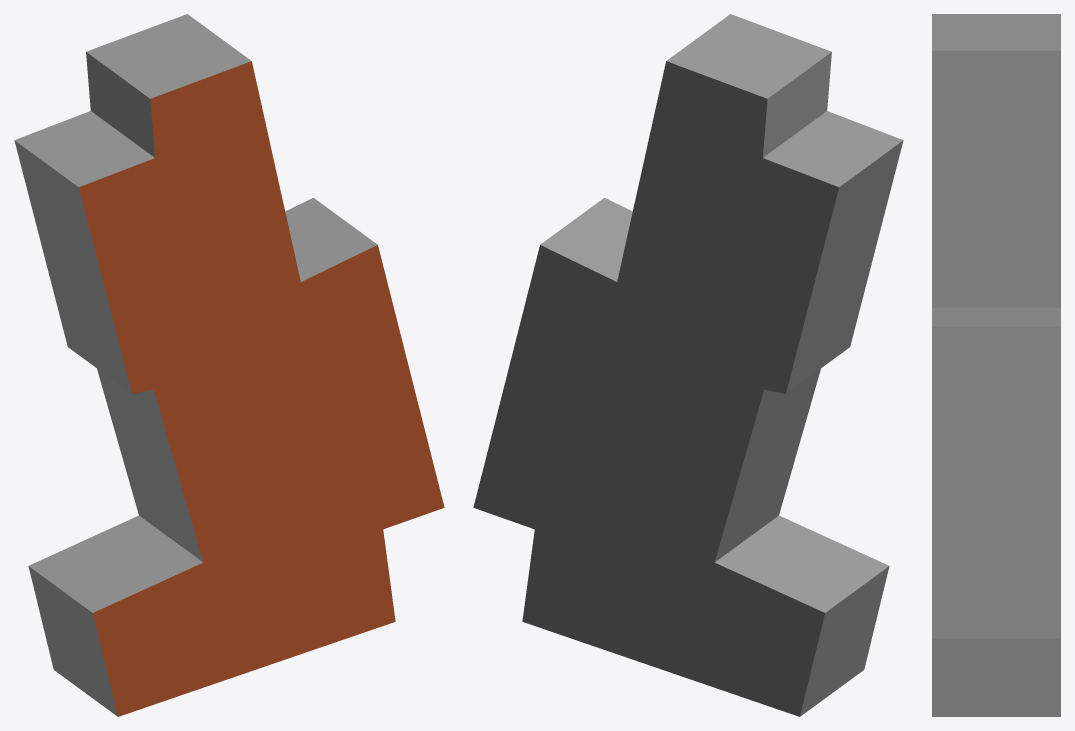
File: construction_6081_assumed_A_Casa_h6m.obj
3 renders of one model, left to right at view 1: azimuth 30°, elevation 25°; view 2: azimuth 150°, elevation 25°; view 3: azimuth 270°, elevation 25°, orthographic.
Parts seen in each view (by area): view 1: construction_6081_assumed_A_Casa; view 2: construction_6081_assumed_A_Casa; view 3: construction_6081_assumed_A_Casa.
Part boxes in pixels (left/top/right/bottom): construction_6081_assumed_A_Casa: left=14, top=14, right=444, bottom=716; construction_6081_assumed_A_Casa: left=473, top=14, right=903, bottom=716; construction_6081_assumed_A_Casa: left=932, top=14, right=1060, bottom=716.
Bounding box in the file's own units: 19.68 × 32.04 × 6.
